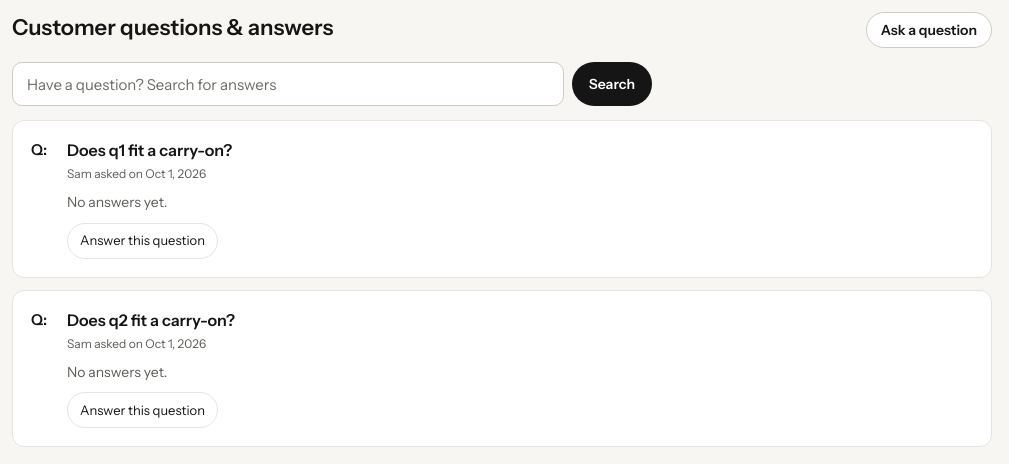
searches and goes back to all questions
Type "red" into the search field named "Search questions and answers" at (288, 84), box x1=12 y1=62 x2=564 y2=106
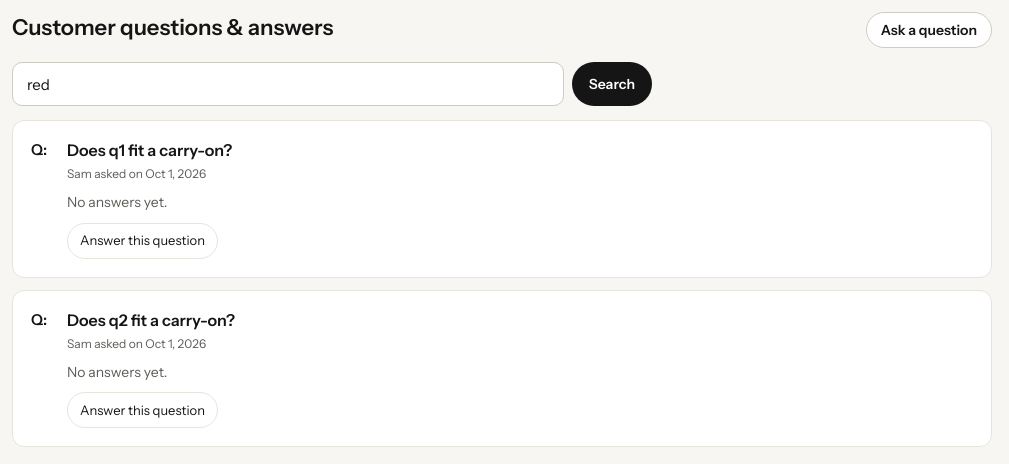
Submit the form, box x1=12 y1=62 x2=652 y2=106
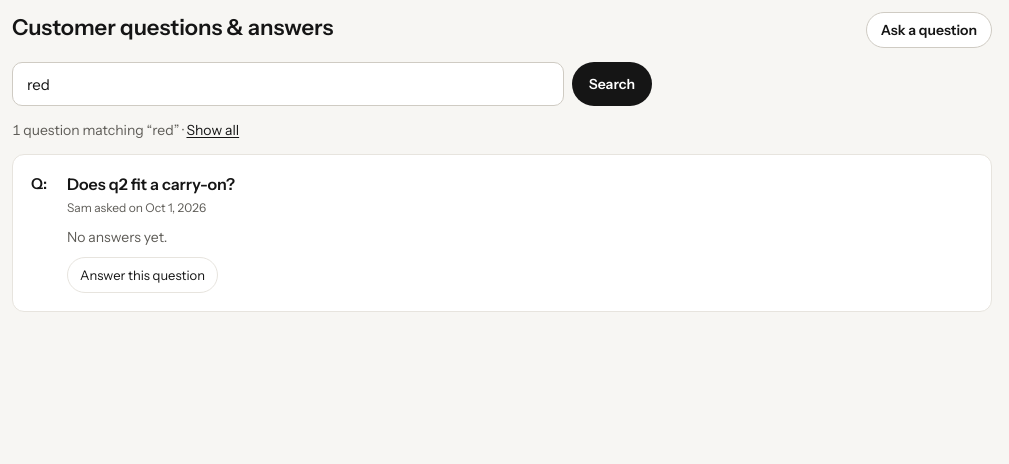
Expected: the text "1 question matching “red” · Show all" is shown, x1=12 y1=120 x2=239 y2=140
Expected: the text "Does q1 fit a carry-on?" is gone
Click the button "Show all" at (213, 130), box x1=186 y1=120 x2=239 y2=140
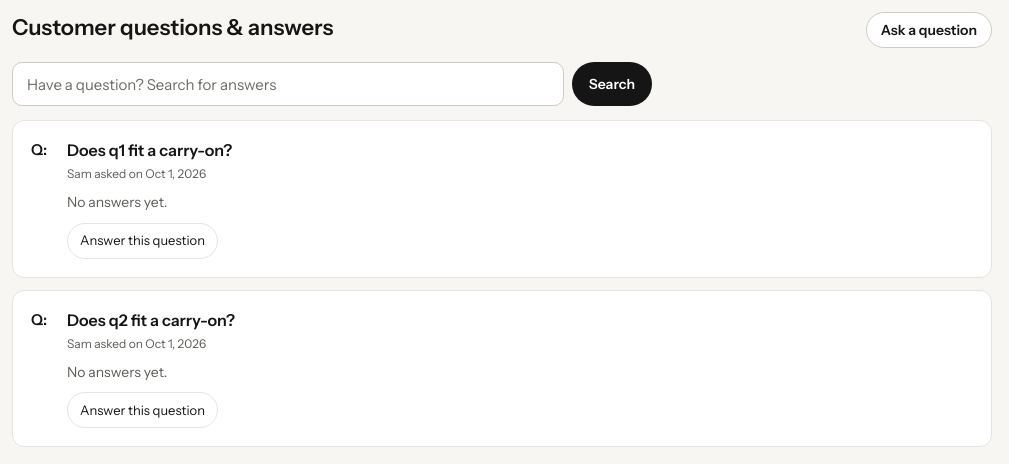
Expected: the text "Does q1 fit a carry-on?" is shown, x1=67 y1=140 x2=232 y2=160
